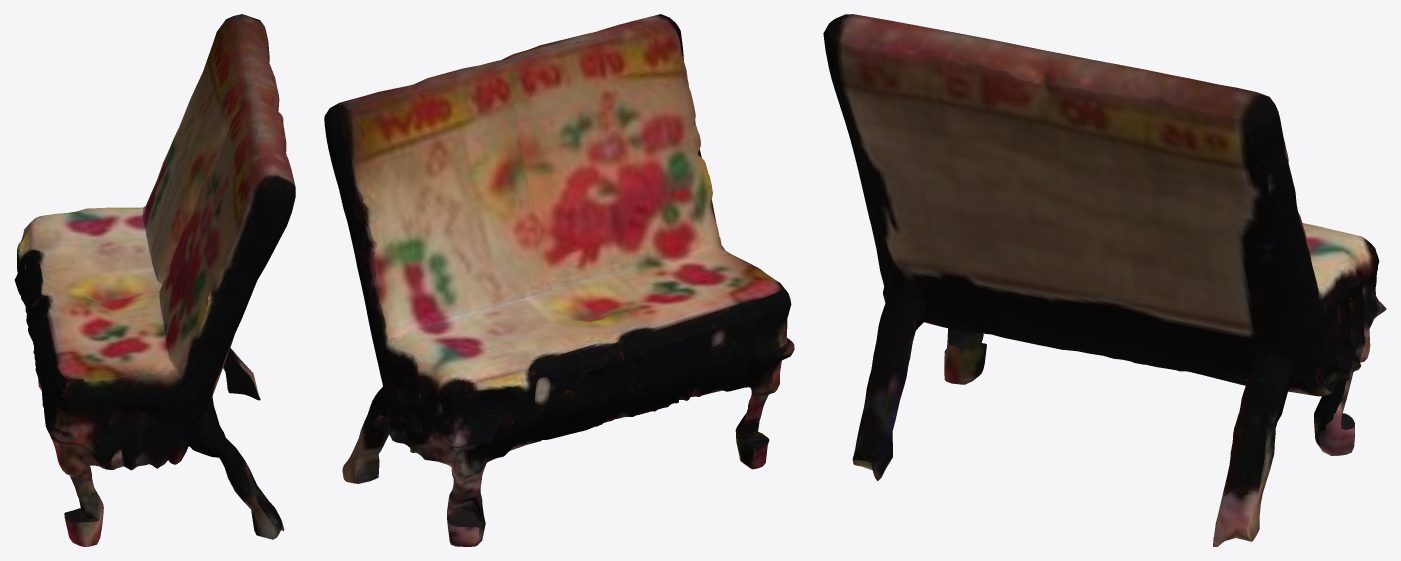
3 renders of one model, left to right at view 1: azimuth 30°, elevation 25°; view 2: azimuth 150°, elevation 25°; view 3: azimuth 270°, elevation 25°, orthographic. The views are drawn at different scales.
Visible parts, largest first — view 1: world; view 2: world; view 3: world.
Part boxes in pixels (box(x1,y1,x2,y2)): world: box(14, 14, 295, 546); world: box(324, 14, 794, 546); world: box(823, 14, 1386, 546).
Size of the model in its own units: 0.6841 by 0.7373 by 0.8283.
1 material, 1 textured.
